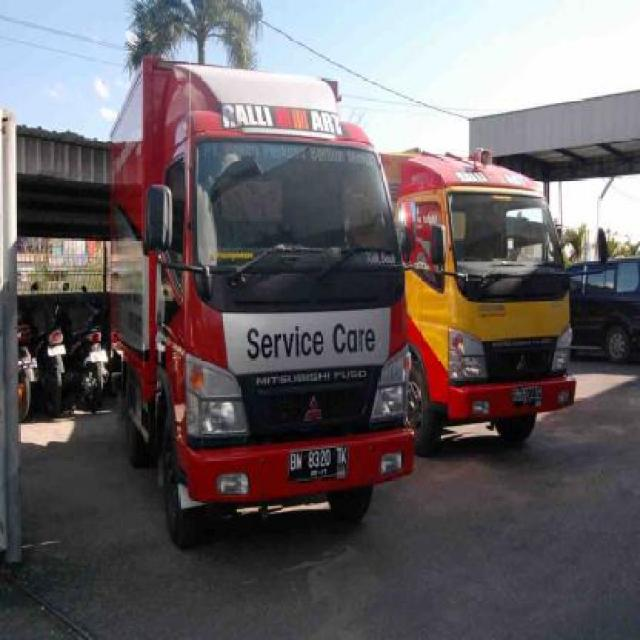truck: (110, 69, 413, 529), (384, 138, 607, 450)
